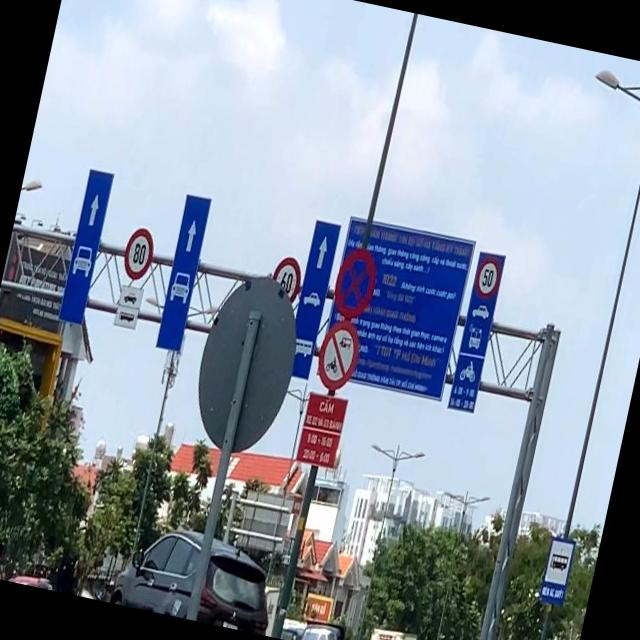P-104: (314, 316, 363, 392)
P-130: (329, 245, 381, 320)
